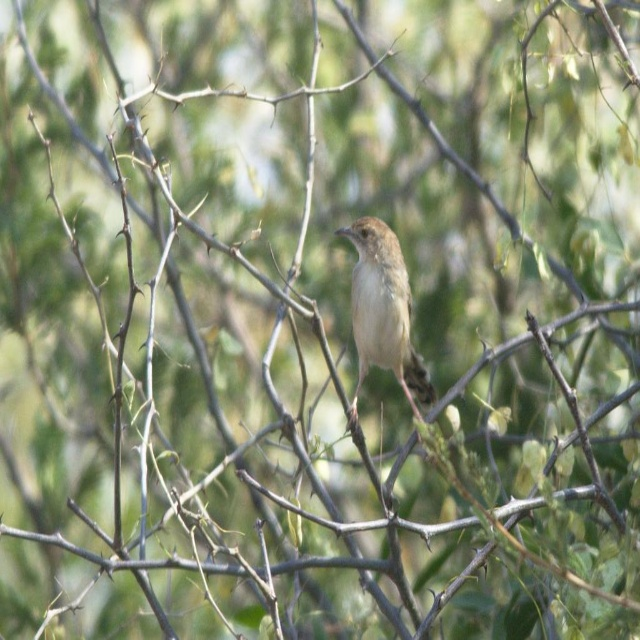Sparrow: (339, 212, 432, 440)
